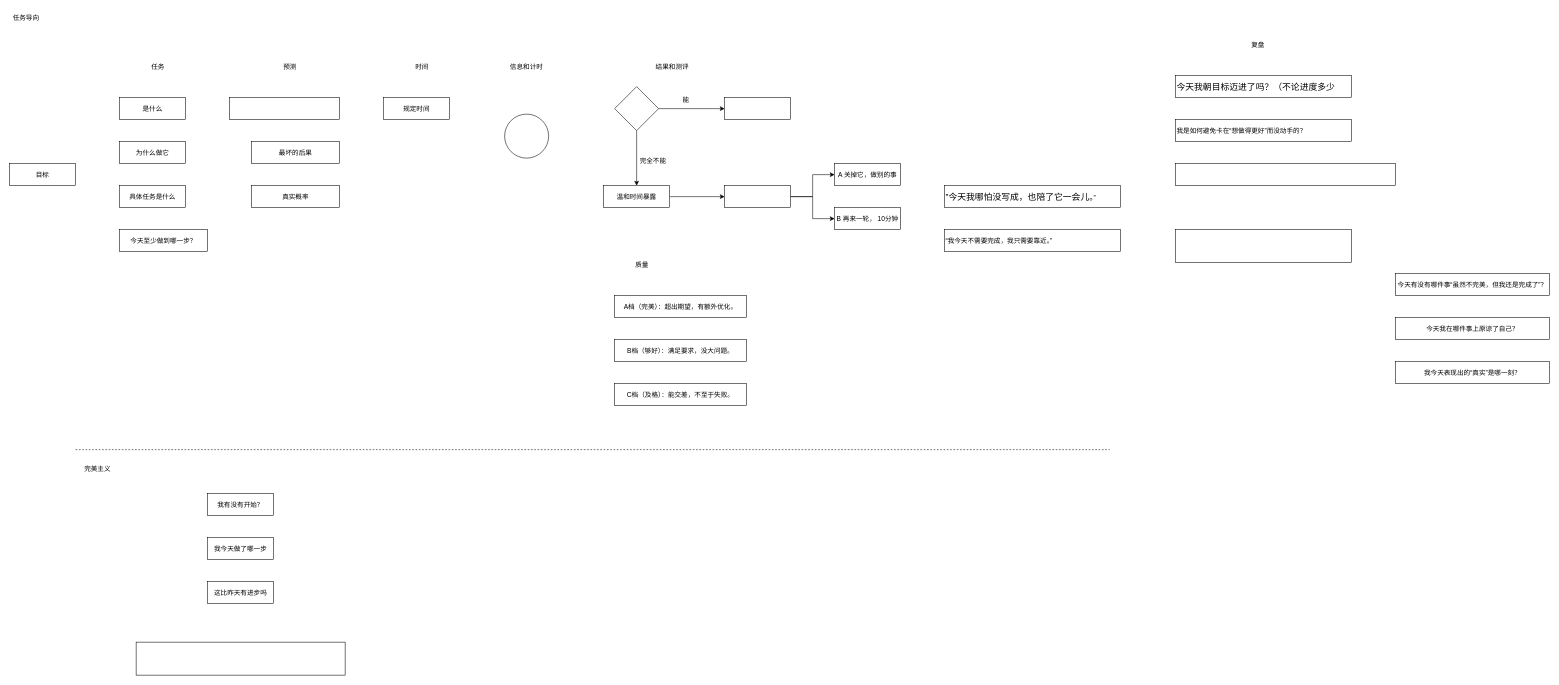
Image size: 1559x685. Some labels were removed from this diagram. Each missing label, with the centre of its shape:
"写下在意的一个“做得不够好”的地方，并反问：“它真的必须完美吗？" belongs at point (1285, 174).
"引导语： “我不是来表现得完美的，我是来完成任务的。” “80%的完成，比0%的完美要有价值得多。” “拖延不会让事情更好，只会让我更累。”" belongs at point (1263, 246).
"每天写 200 字日记，不求逻辑完美，只记录情绪或思考。" belongs at point (240, 658).
"能做完？" belongs at point (636, 108).
"计时器" belongs at point (526, 136).
"记录一次“我害怕做/说某事”的情境" belongs at point (284, 108).
"设定超小时间" belongs at point (757, 196).
